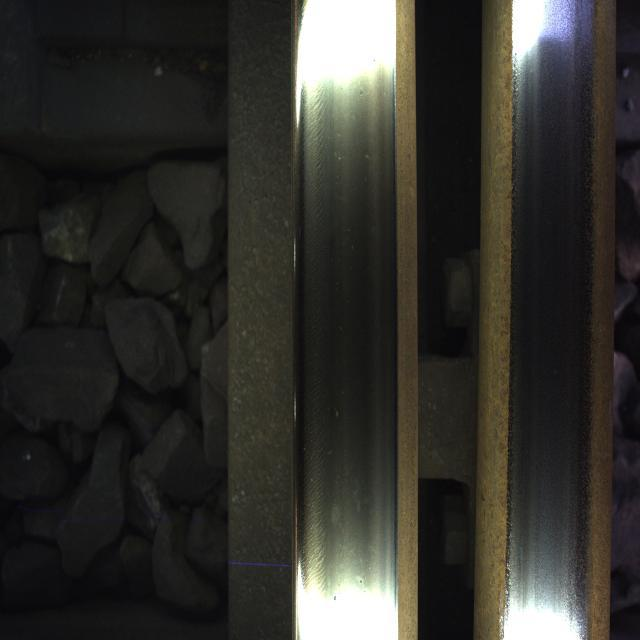break: (300, 48, 390, 592), (510, 40, 589, 589)
